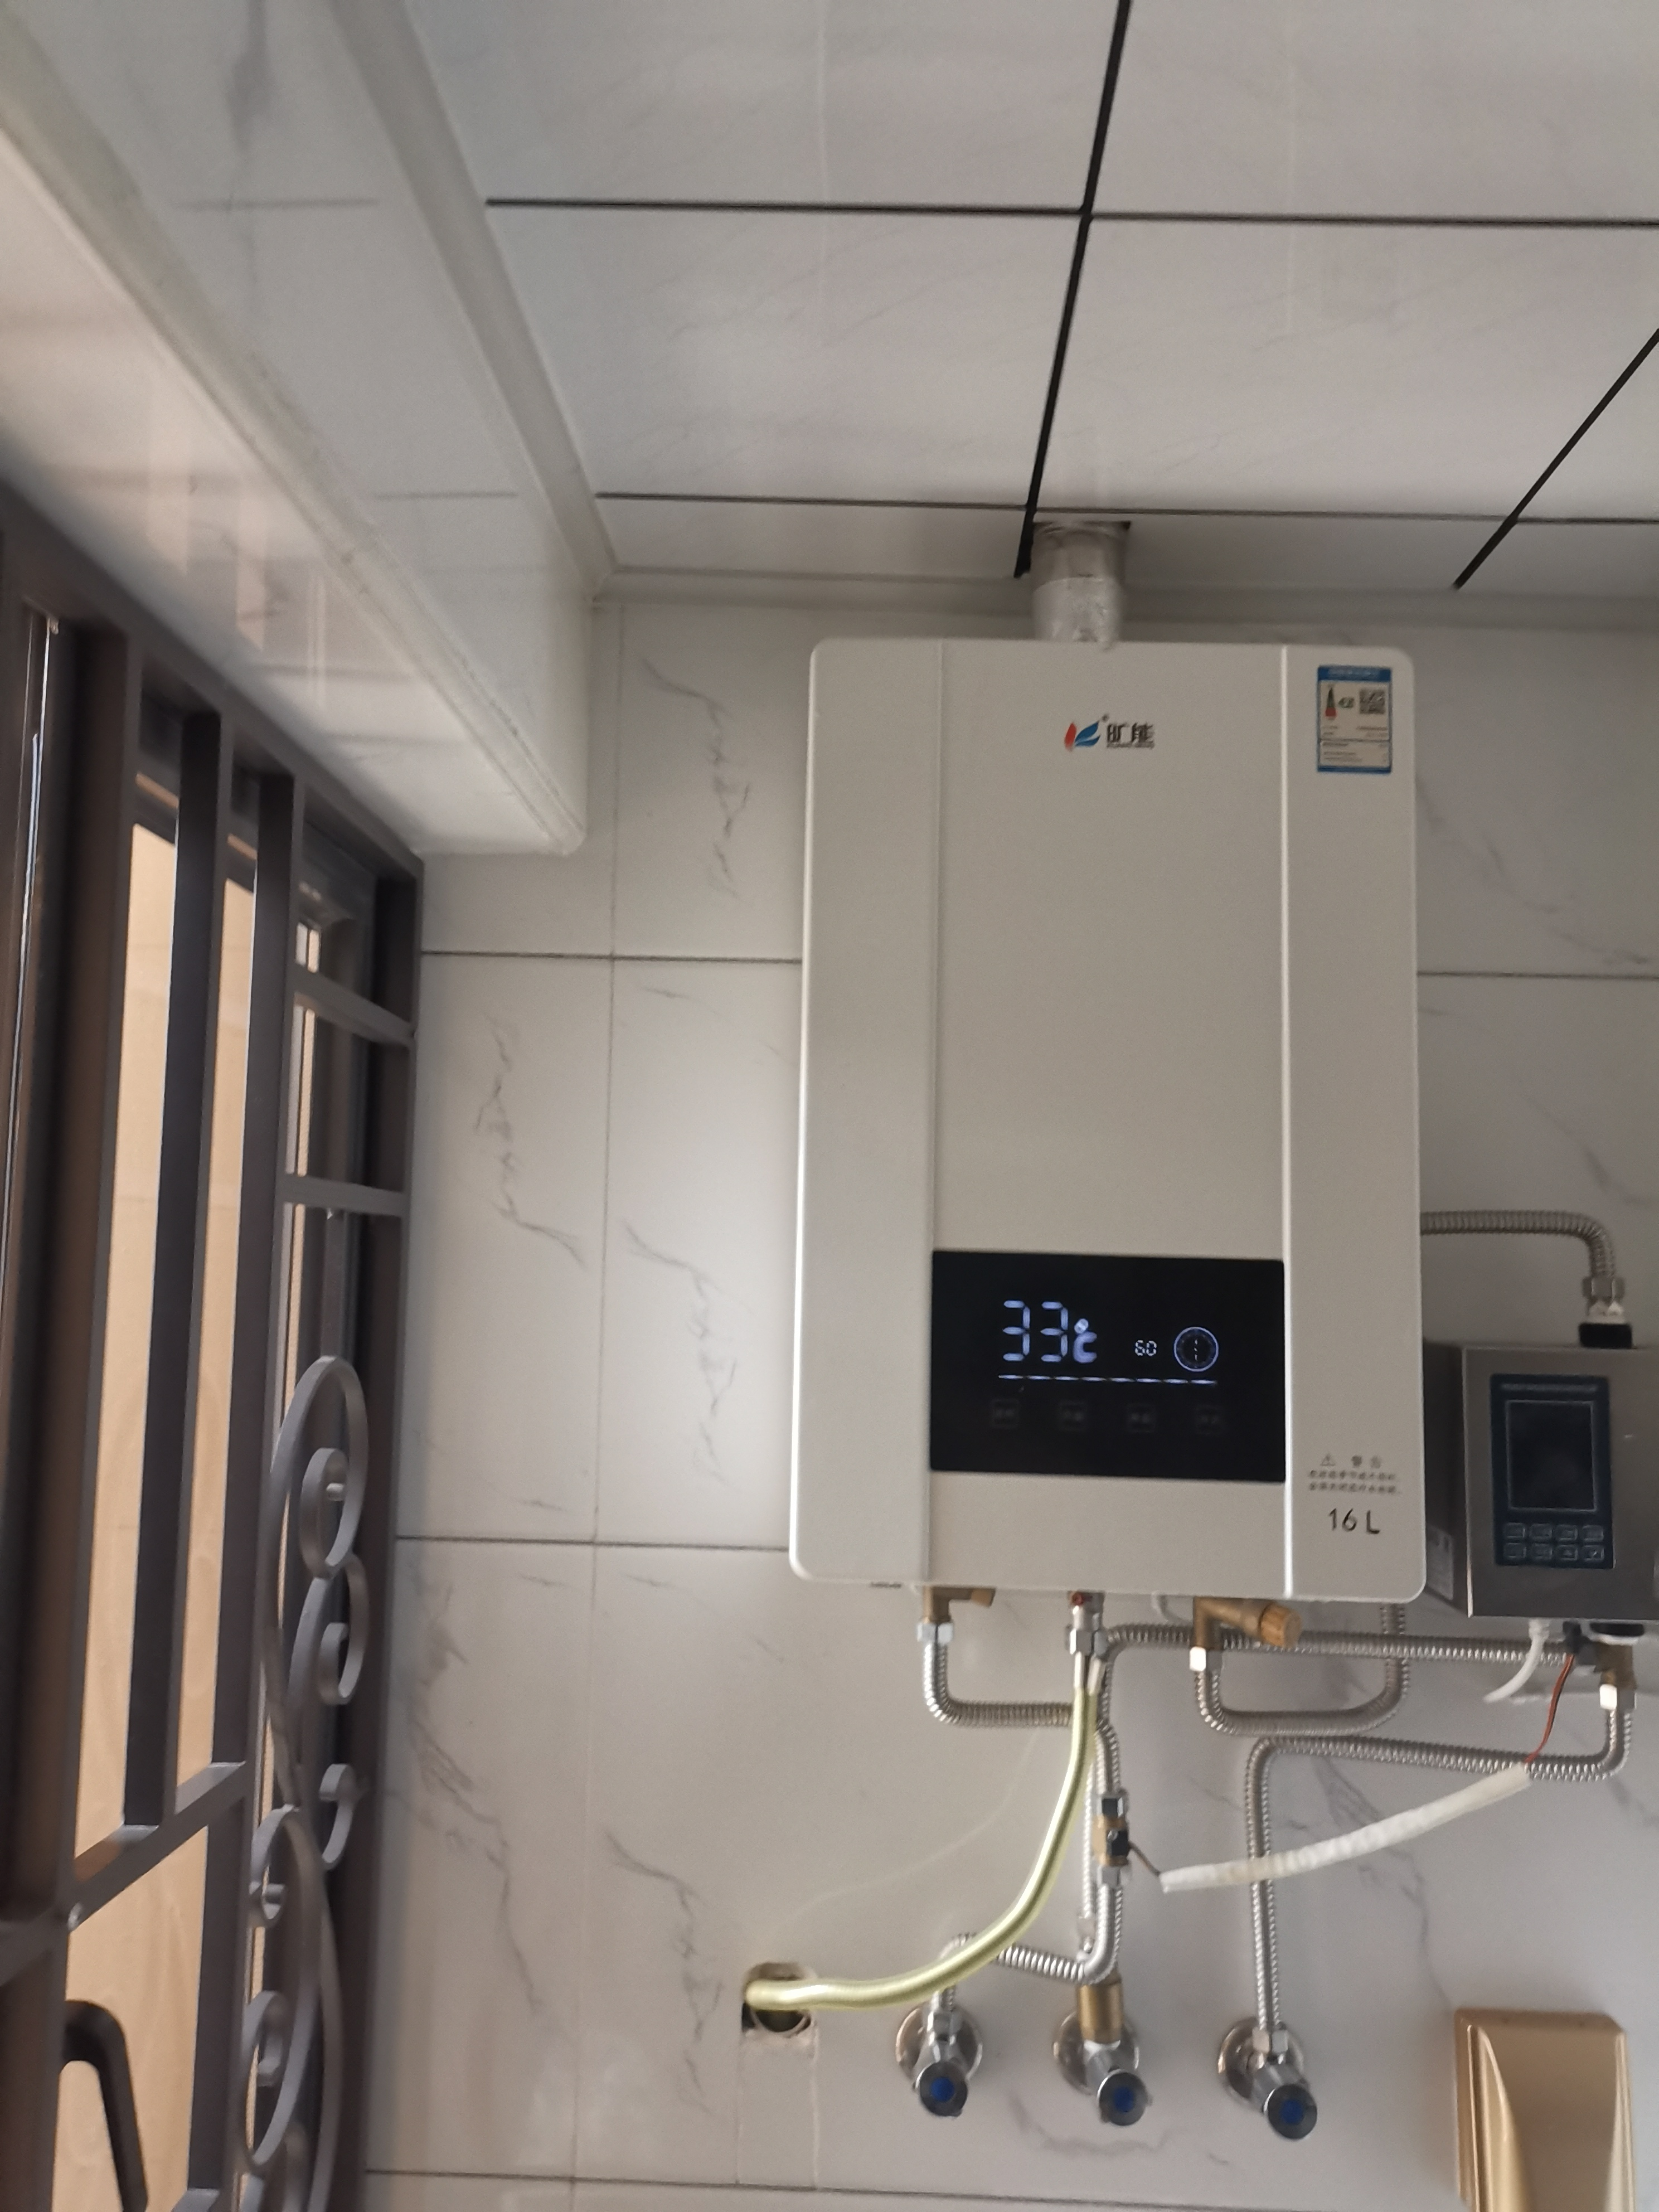loudou: (1049, 704, 1175, 763)
